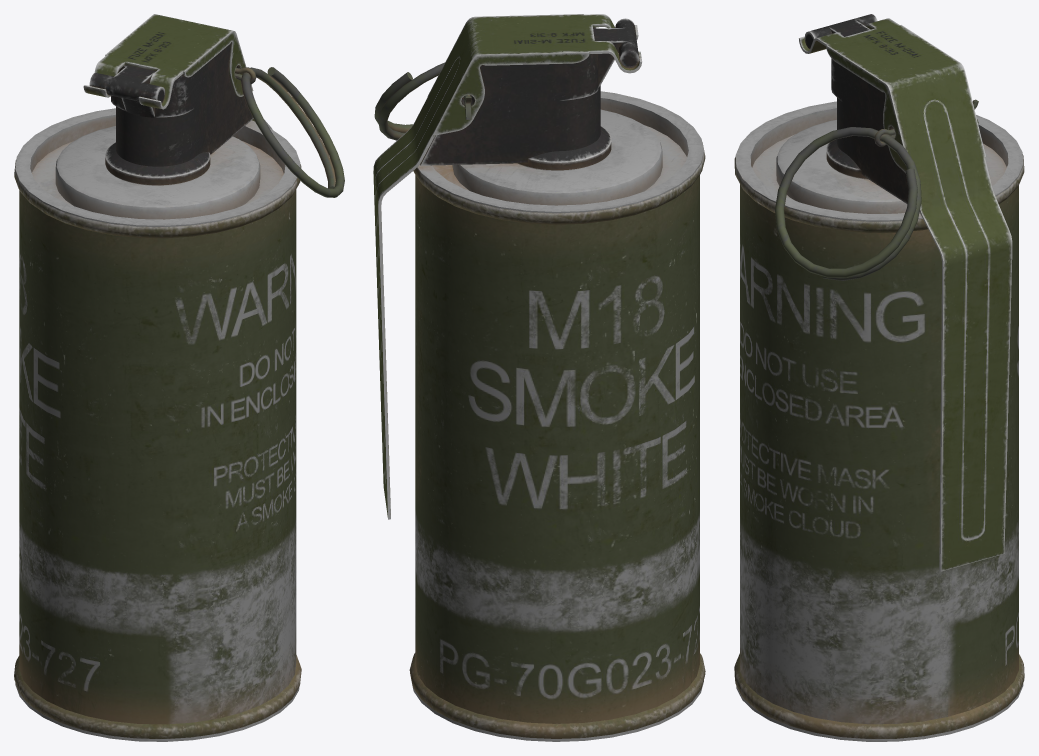
The model's file is FbxFumigene.fbx.
3 views of the same model, side by side, from view 1: azimuth 30°, elevation 25°; view 2: azimuth 150°, elevation 25°; view 3: azimuth 270°, elevation 25° (orthographic). The views are drawn at different scales.
Visible parts, largest first — view 1: M18; view 2: M18; view 3: M18.
Boxes of the visible parts, bbox=[...] form: M18: bbox=[14, 14, 344, 741]; M18: bbox=[373, 14, 705, 741]; M18: bbox=[734, 14, 1024, 741].
Size of the model in its own units: 7.36 by 14.88 by 6.16.
1 material, 1 textured.
